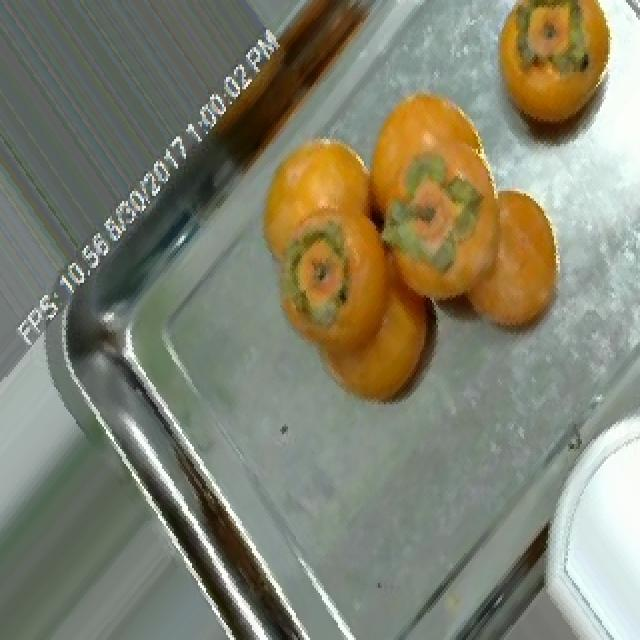Fruit: (406, 159, 586, 377), (478, 0, 636, 181)
